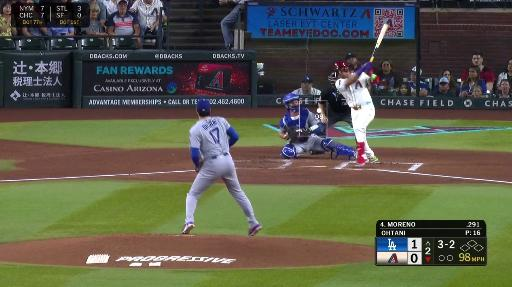pitcher: (183, 100, 264, 237)
